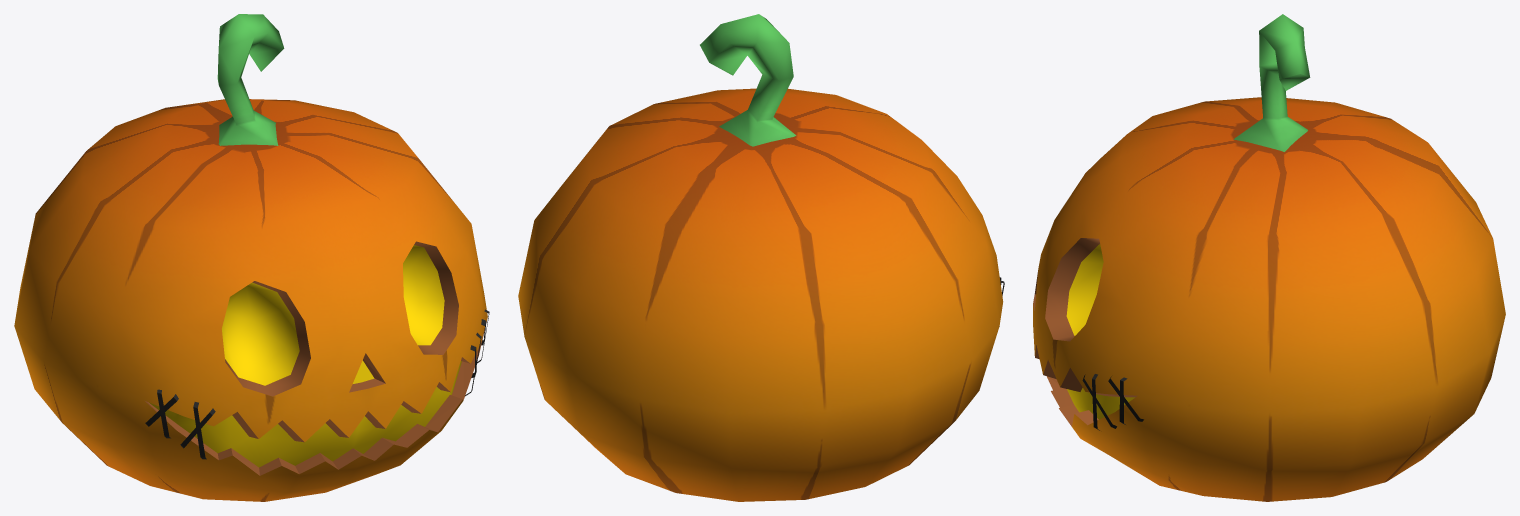
Rendered from FX_nangua_bomb.FBX.
3 renders of one model, left to right at view 1: azimuth 30°, elevation 25°; view 2: azimuth 150°, elevation 25°; view 3: azimuth 270°, elevation 25°, orthographic. The views are drawn at different scales.
Visible parts, largest first — view 1: FX_nangua_bomb; view 2: FX_nangua_bomb; view 3: FX_nangua_bomb.
Boxes of the visible parts, x1,y1,x2,y2 form: FX_nangua_bomb: (14, 14, 489, 501); FX_nangua_bomb: (518, 14, 1004, 501); FX_nangua_bomb: (1033, 14, 1505, 501).
Size of the model in its own units: 31.66 by 33.05 by 31.17.
